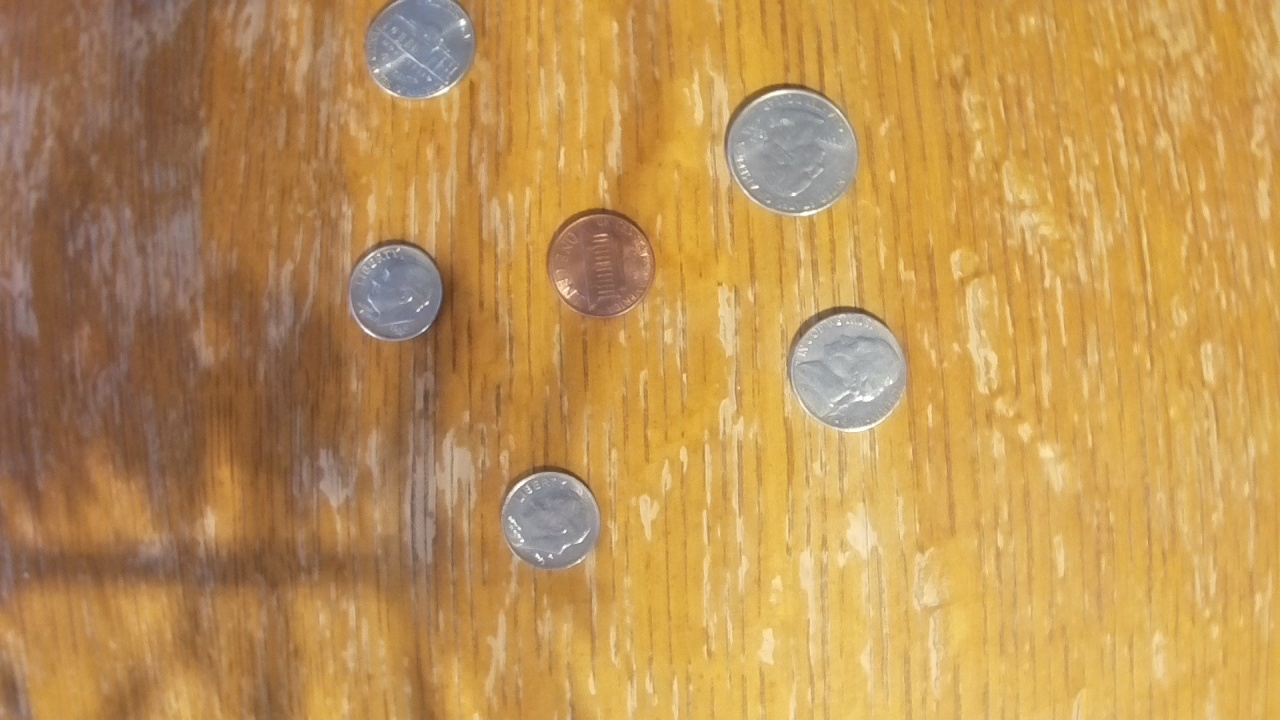dime: (502, 468, 600, 569), (347, 242, 443, 342)
nickel: (789, 307, 910, 433), (365, 1, 477, 102)
penny: (546, 210, 657, 318)
quarter: (724, 83, 859, 218)
